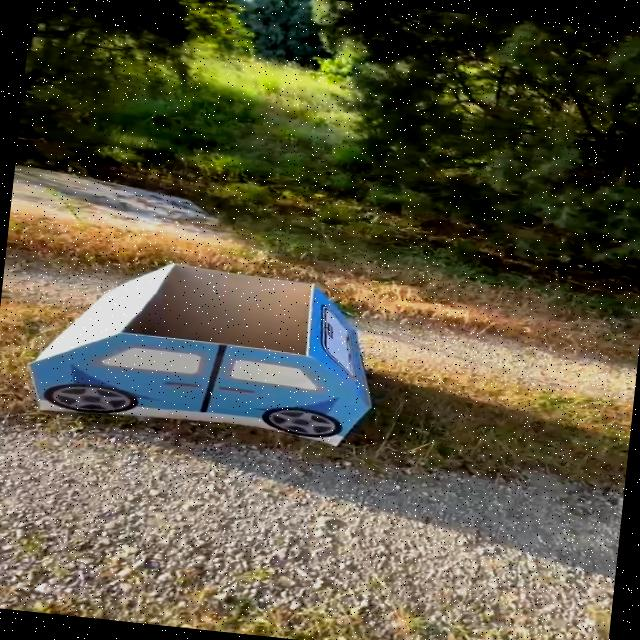blue_car: (6, 217, 417, 491)
